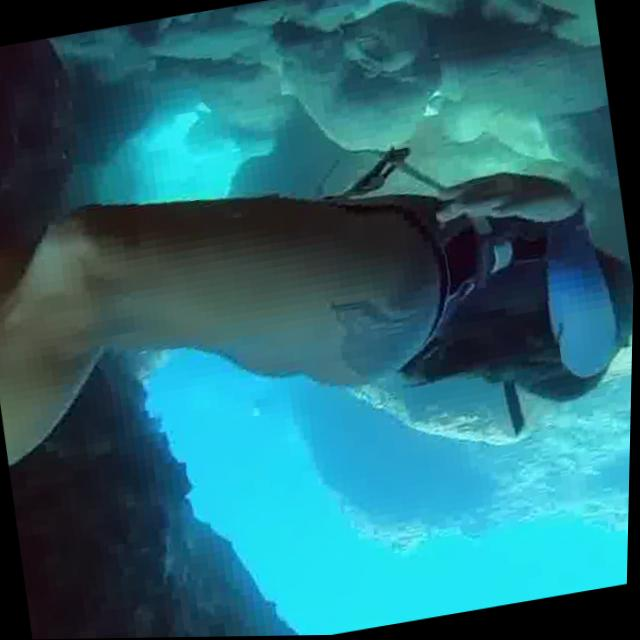human: (0, 109, 638, 627)
